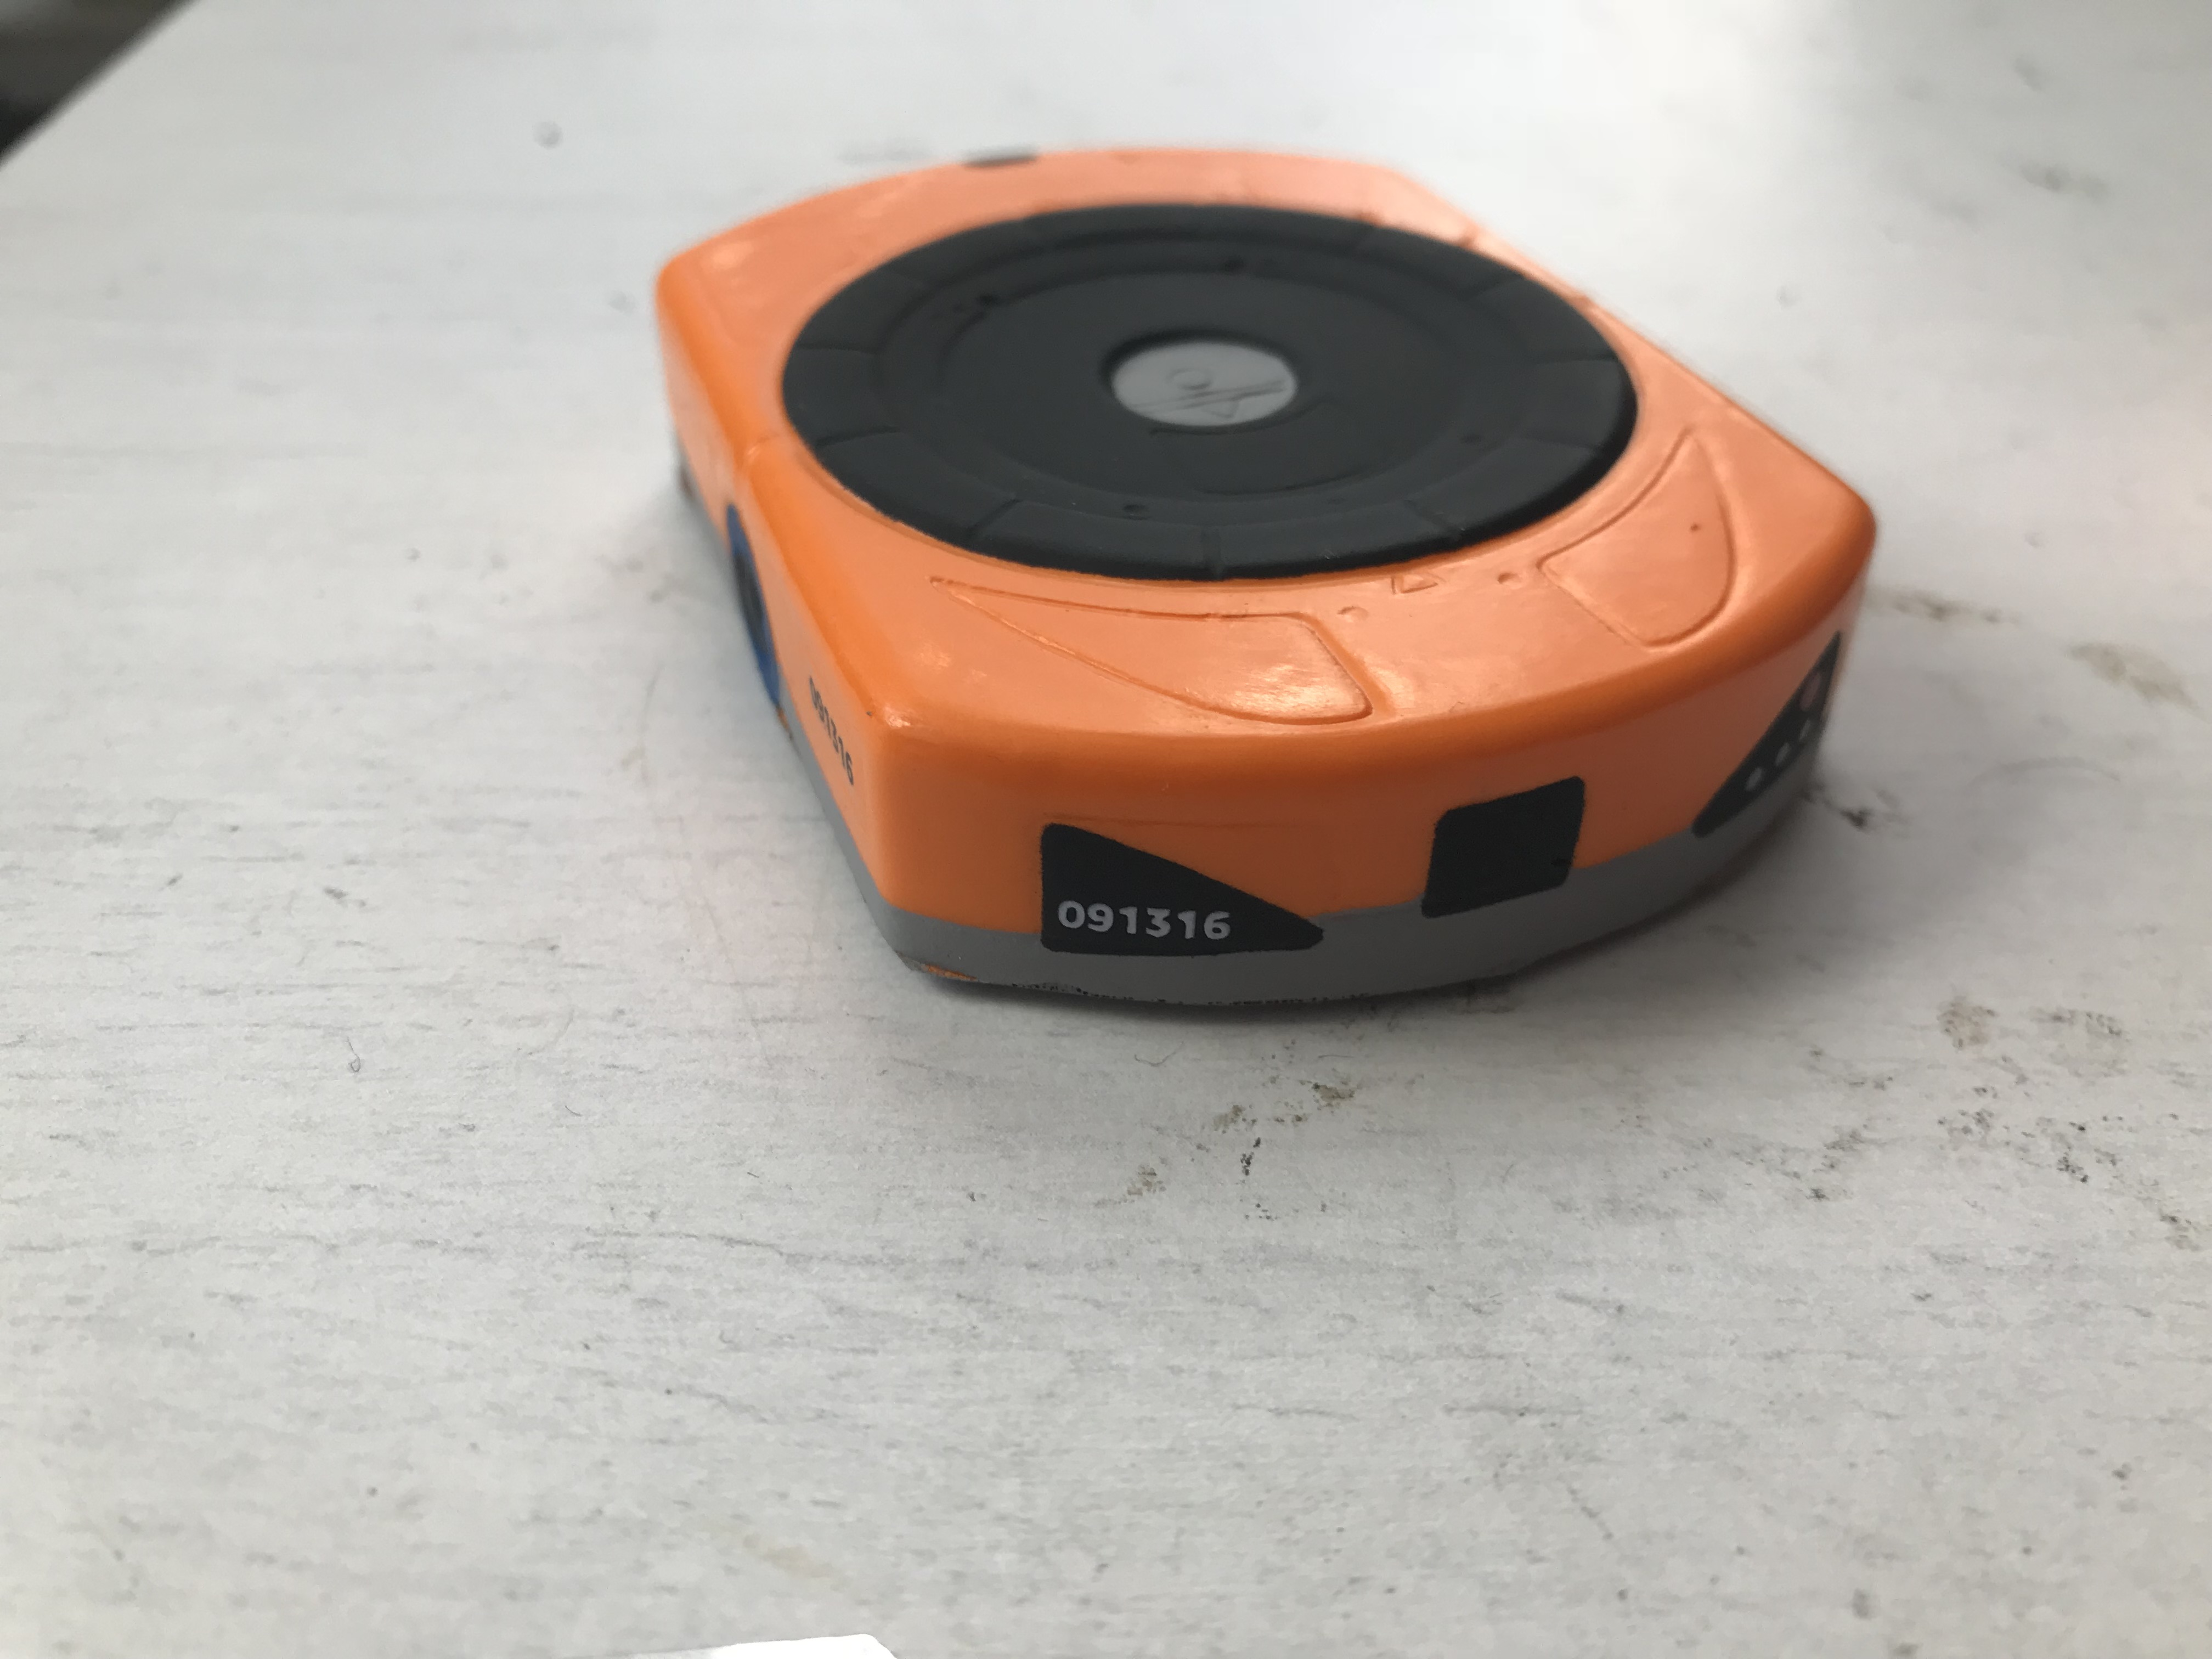amazon_bot: (632, 113, 1928, 1054)
